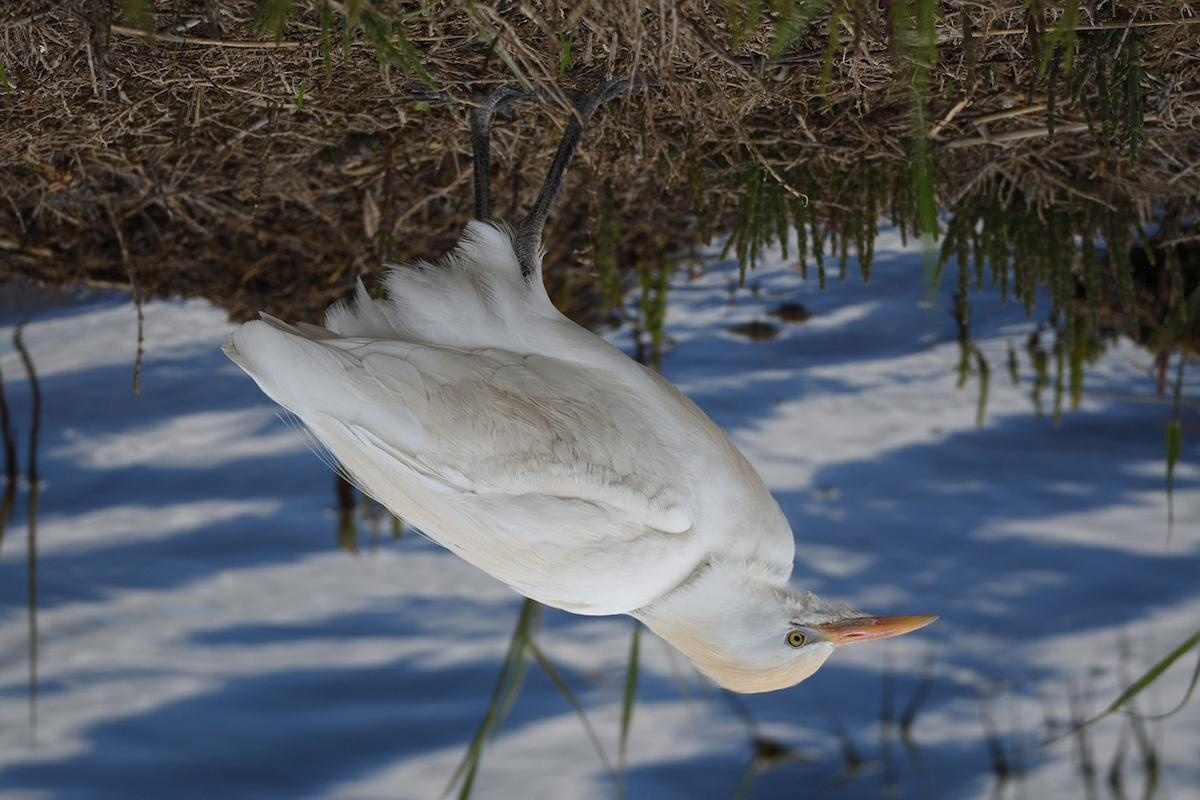egret: (215, 22, 950, 695)
